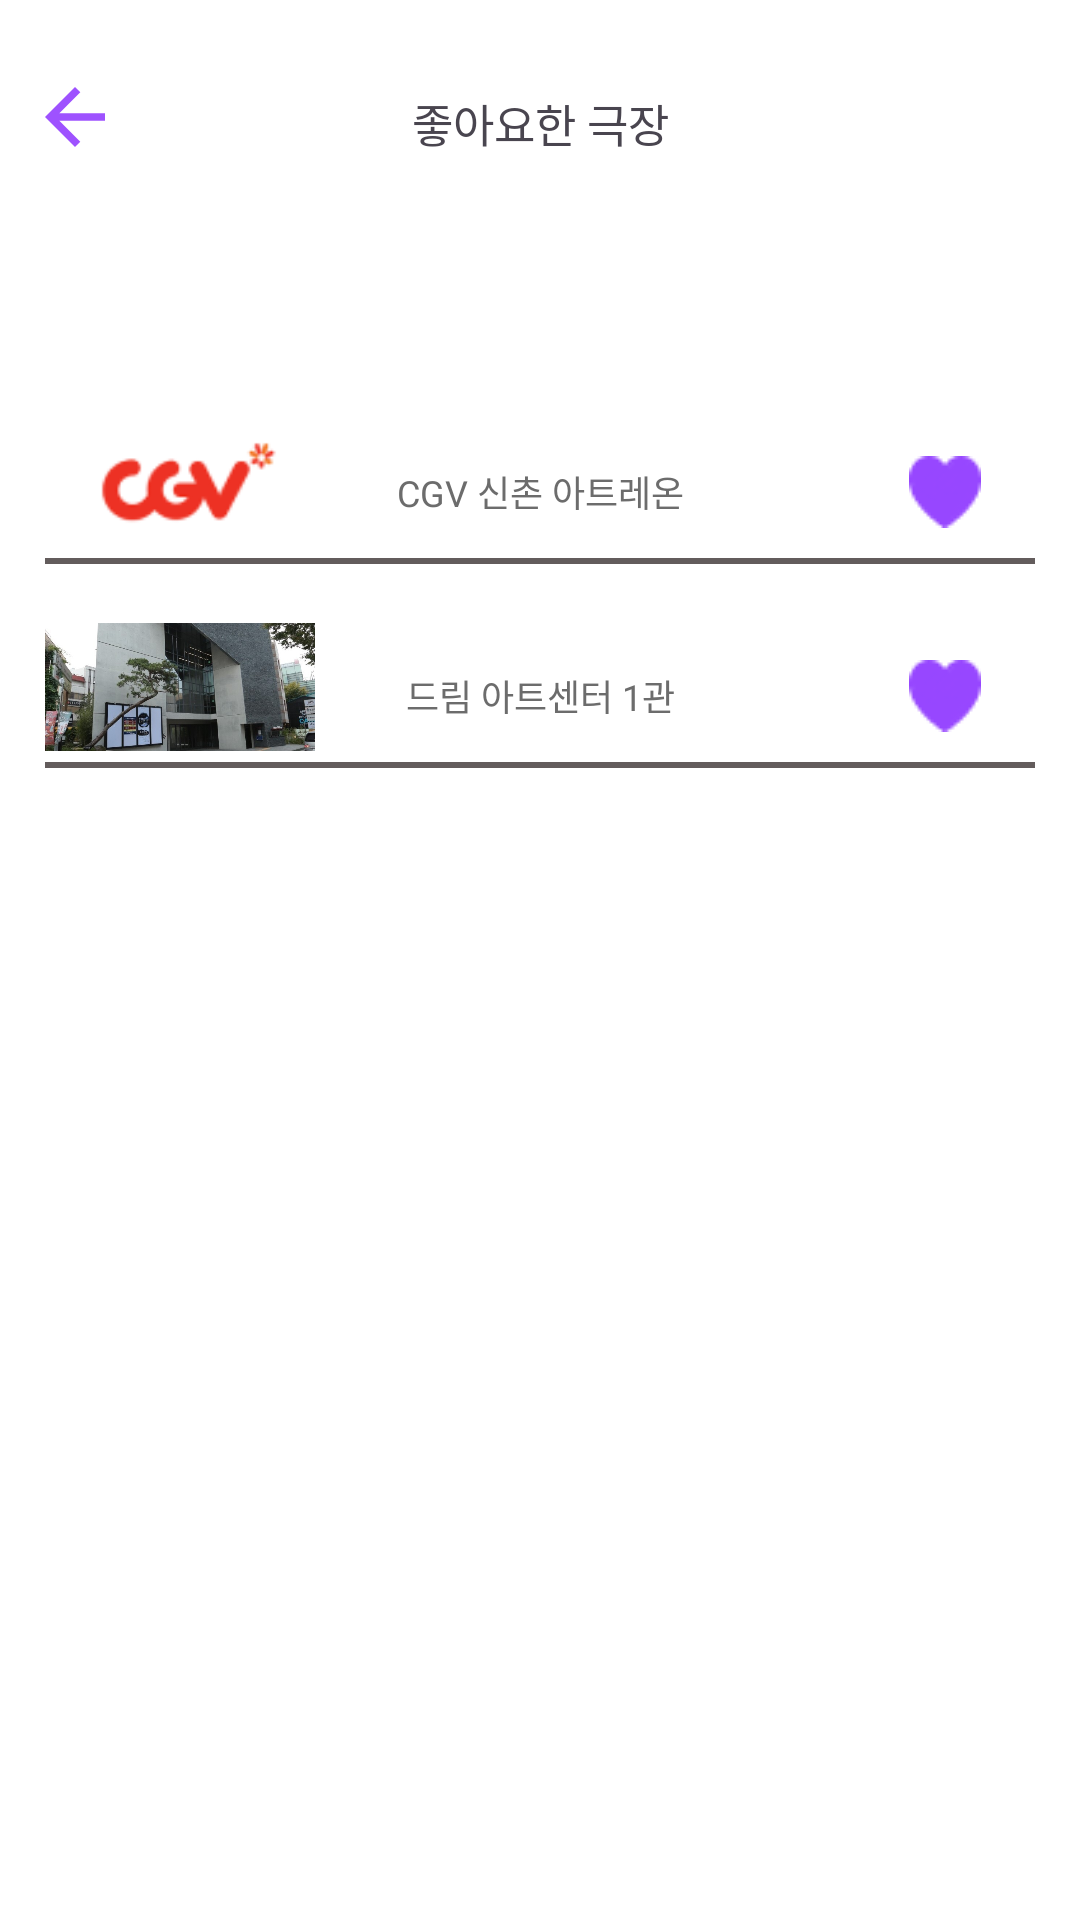

Named icons in this screenshot (1080 × 1920) and their bounding boxes, (x1, y1, x2, y2):
back: (45, 87, 105, 147)
heart: (909, 456, 981, 528), (909, 660, 981, 732)
